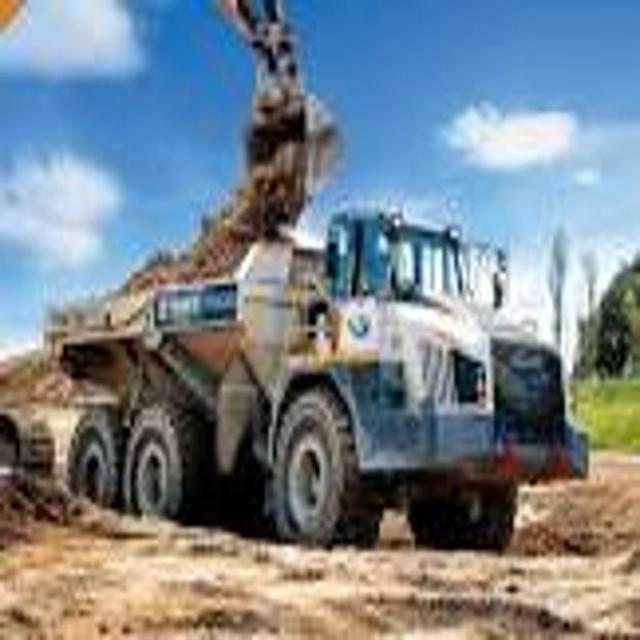dump_truck: (45, 201, 593, 577)
